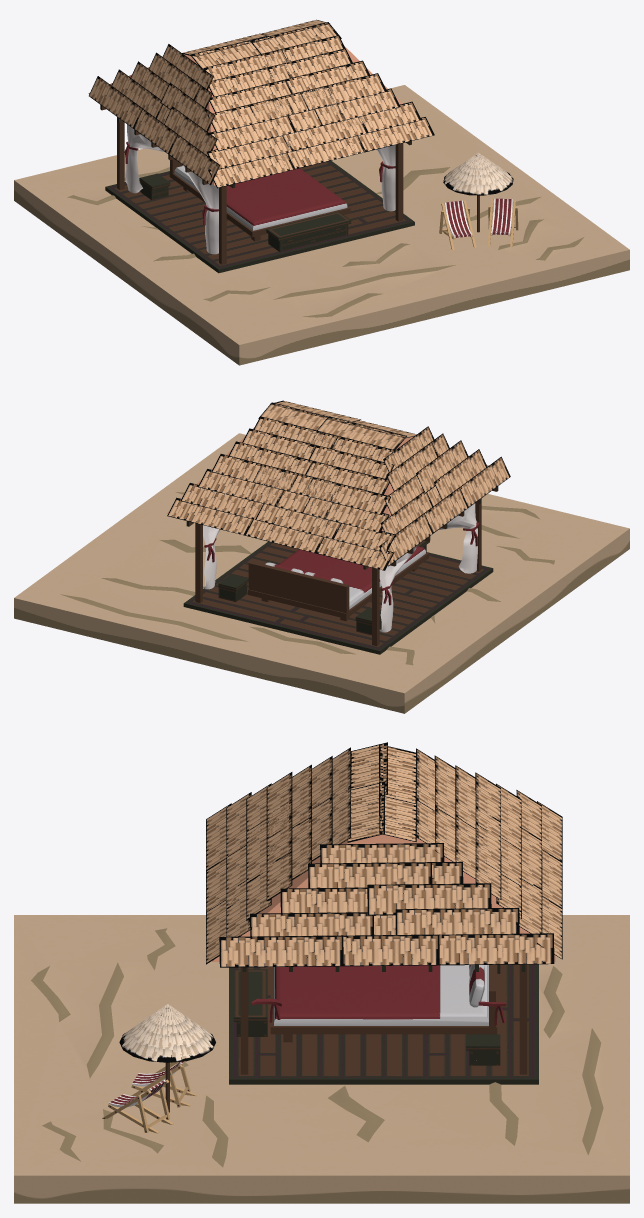
3 views of the same model, one above another, from view 1: azimuth 30°, elevation 25°; view 2: azimuth 150°, elevation 25°; view 3: azimuth 270°, elevation 25° (orthographic). The views are drawn at different scales.
Parts seen in each view (by area): view 1: Beach, Thatched_roof, Cabana_2, Curtains_2, Beach_Umbrella, Beach_Chair, Beach_Chair1; view 2: Beach, Thatched_roof, Cabana_2, Curtains_2; view 3: Beach, Thatched_roof, Cabana_2, Beach_Umbrella, Beach_Chair1, Beach_Chair.
Part boxes in pixels (<box>): Beach: <box>14,85,629,365</box>; Thatched_roof: <box>88,19,434,188</box>; Cabana_2: <box>100,105,414,273</box>; Curtains_2: <box>124,124,395,254</box>; Beach_Umbrella: <box>443,153,513,232</box>; Beach_Chair: <box>439,200,476,250</box>; Beach_Chair1: <box>487,198,518,246</box>; Beach: <box>14,433,629,713</box>; Thatched_roof: <box>167,400,510,570</box>; Cabana_2: <box>183,486,498,654</box>; Curtains_2: <box>203,503,479,632</box>; Beach: <box>14,915,629,1203</box>; Thatched_roof: <box>206,742,562,967</box>; Cabana_2: <box>229,964,538,1084</box>; Beach_Umbrella: <box>119,1004,215,1112</box>; Beach_Chair1: <box>102,1079,173,1133</box>; Beach_Chair: <box>131,1061,196,1107</box>.
Bounding box in the file's own units: 1991 × 923 × 1988.
3 materials, 3 textured.
